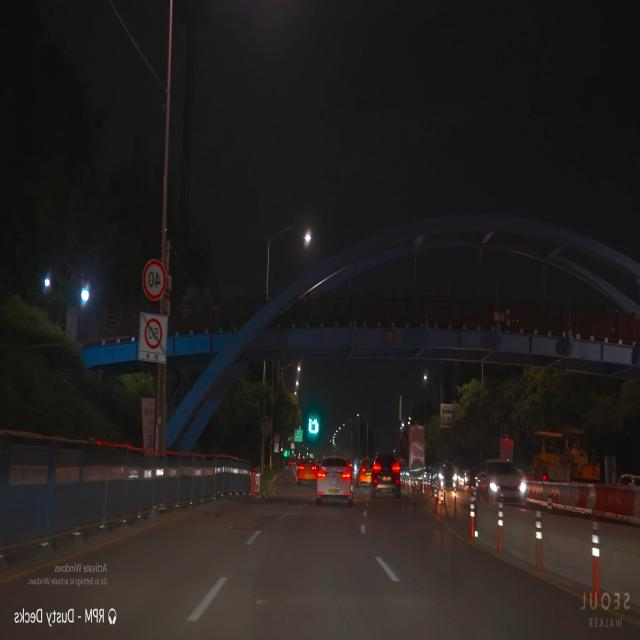headlights: (488, 472, 530, 507), (436, 469, 461, 491)
